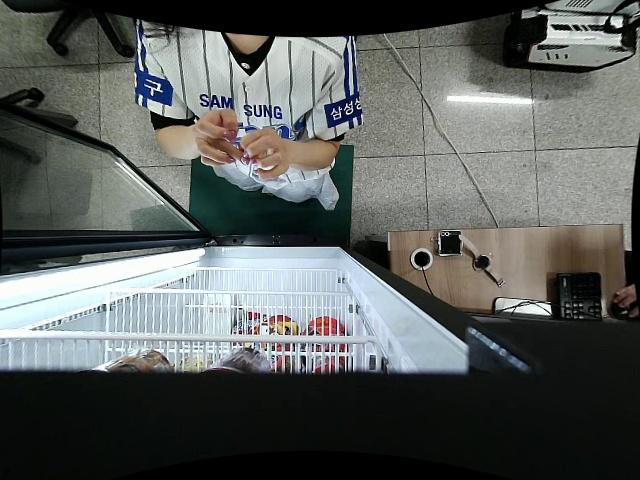00_hand: (193, 106, 242, 167), (241, 126, 290, 181)
